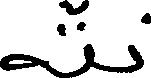X: (129, 8, 150, 77), (0, 49, 41, 75), (87, 0, 93, 75)
